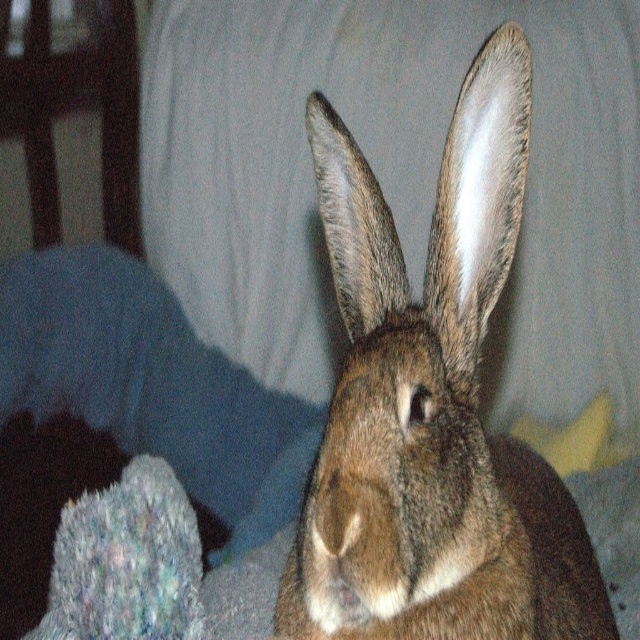Rabbit: (271, 19, 622, 639)
